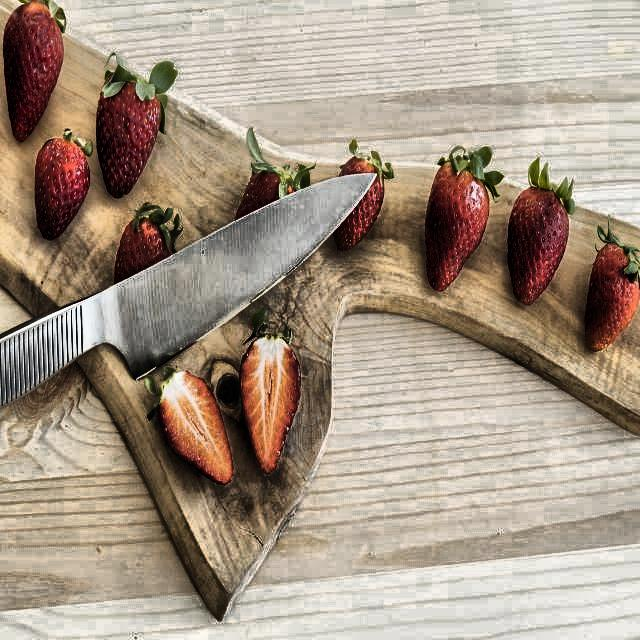knife: (0, 170, 380, 418)
